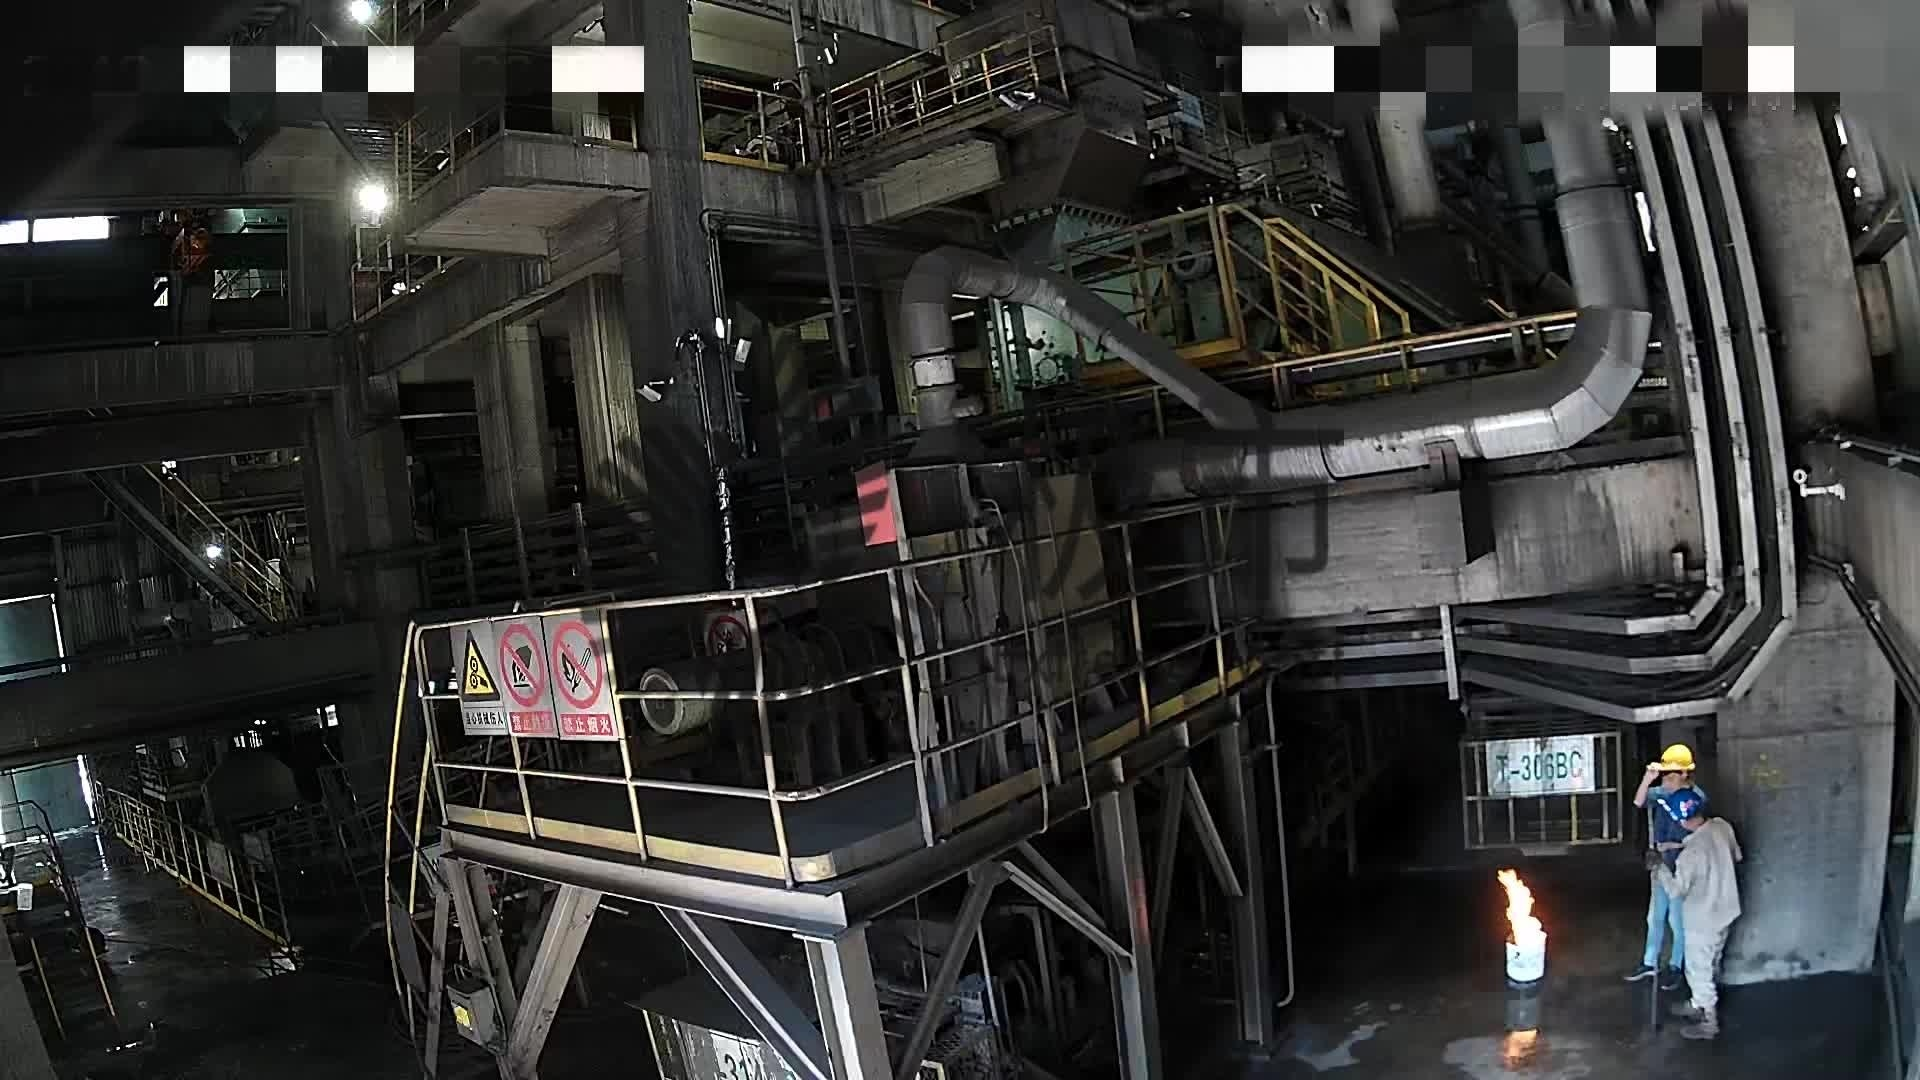fire: (1491, 866, 1542, 973)
